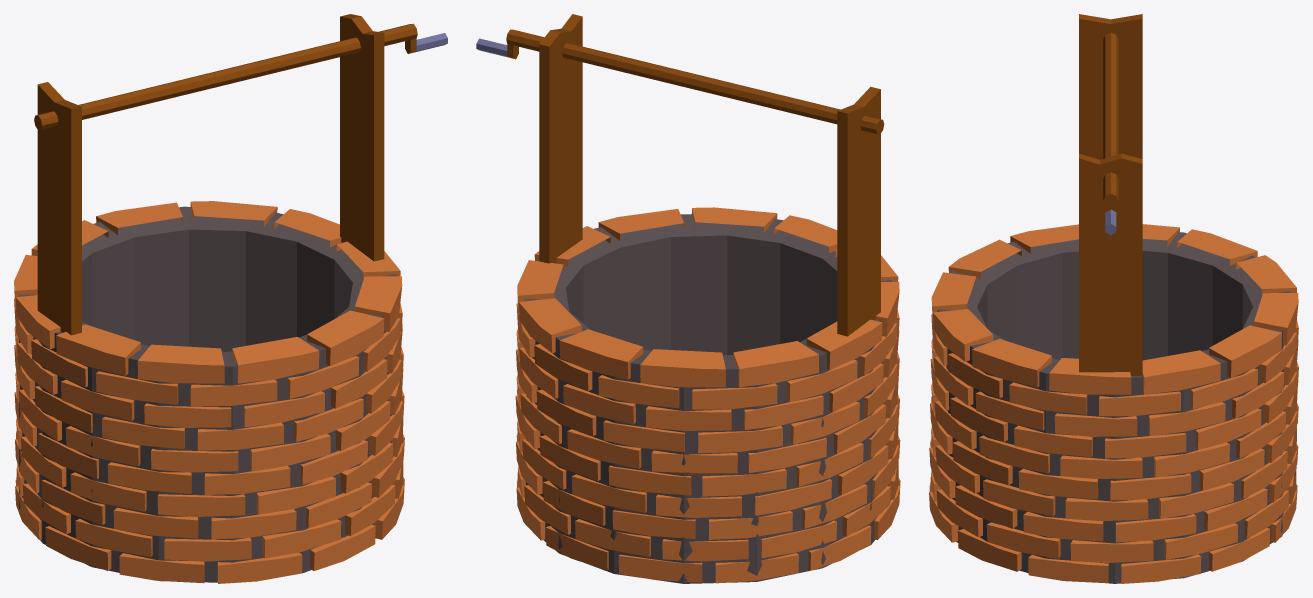
File: water_well.fbx
3 renders of one model, left to right at view 1: azimuth 30°, elevation 25°; view 2: azimuth 150°, elevation 25°; view 3: azimuth 270°, elevation 25°, orthographic. The views are drawn at different scales.
Visible parts, largest first — view 1: water_well, water_well_manivel_mesh; view 2: water_well, water_well_manivel_mesh; view 3: water_well, water_well_manivel_mesh.
Boxes of the visible parts, x1,y1,x2,y2 form: water_well: (14, 14, 404, 583); water_well_manivel_mesh: (34, 23, 447, 129); water_well: (515, 14, 900, 583); water_well_manivel_mesh: (476, 29, 884, 134); water_well: (929, 14, 1298, 583); water_well_manivel_mesh: (1103, 33, 1118, 235).
Size of the model in its own units: 678 by 710 by 564.
